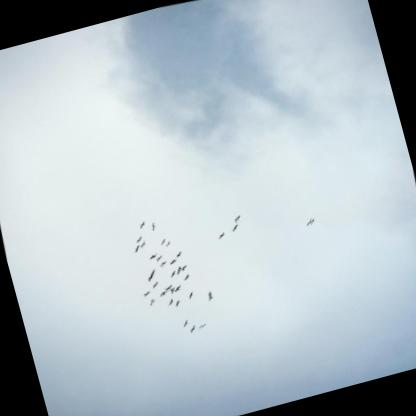bird: (167, 256, 178, 266), (180, 271, 191, 281), (172, 282, 183, 292), (230, 221, 240, 231), (233, 212, 243, 222), (149, 278, 159, 288), (148, 266, 158, 276), (164, 281, 174, 291), (172, 298, 183, 307), (174, 263, 183, 274), (146, 270, 155, 281), (216, 229, 225, 239), (188, 322, 197, 332), (165, 295, 174, 305), (134, 233, 143, 243), (137, 218, 146, 228), (147, 250, 157, 259), (154, 251, 163, 261), (158, 258, 168, 267), (157, 287, 167, 296), (177, 262, 188, 270), (142, 288, 151, 297), (305, 216, 313, 226), (197, 321, 207, 329), (132, 244, 142, 252), (149, 220, 157, 230), (181, 318, 189, 327), (174, 249, 183, 257), (169, 268, 177, 277), (187, 289, 195, 298), (168, 285, 176, 294), (147, 297, 155, 305), (310, 215, 317, 223), (139, 239, 146, 247), (206, 288, 212, 297), (159, 237, 166, 244), (207, 293, 213, 300), (165, 239, 171, 246)
